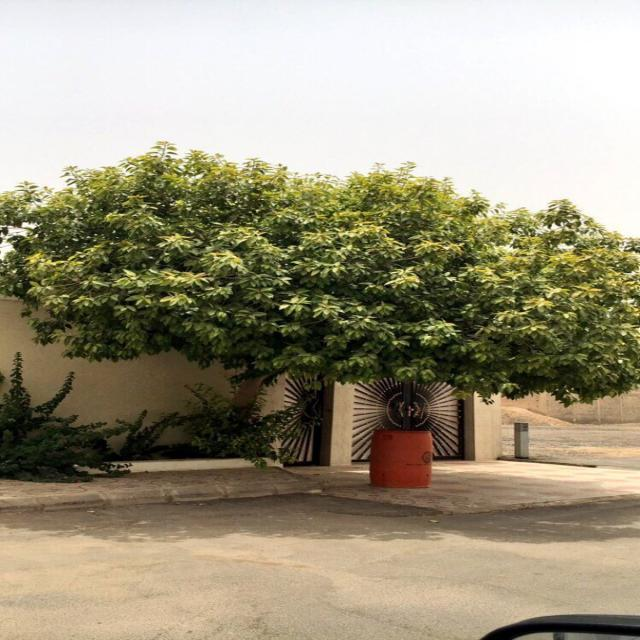Tree: (14, 143, 640, 461)
